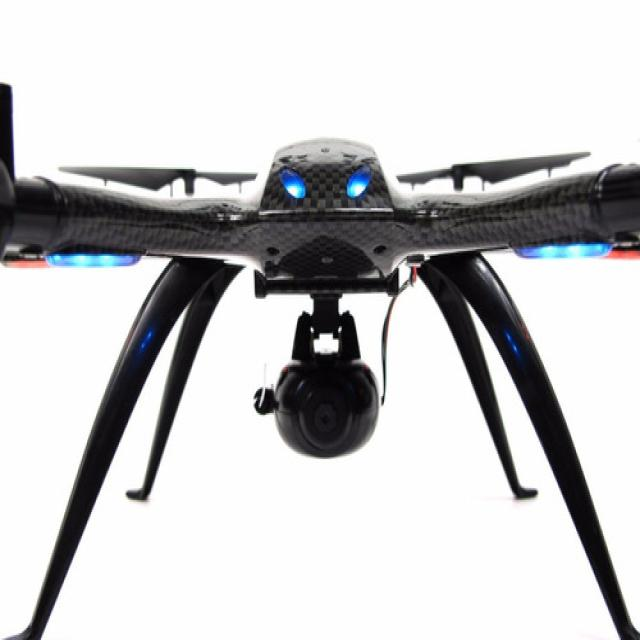drone: (5, 83, 640, 640)
